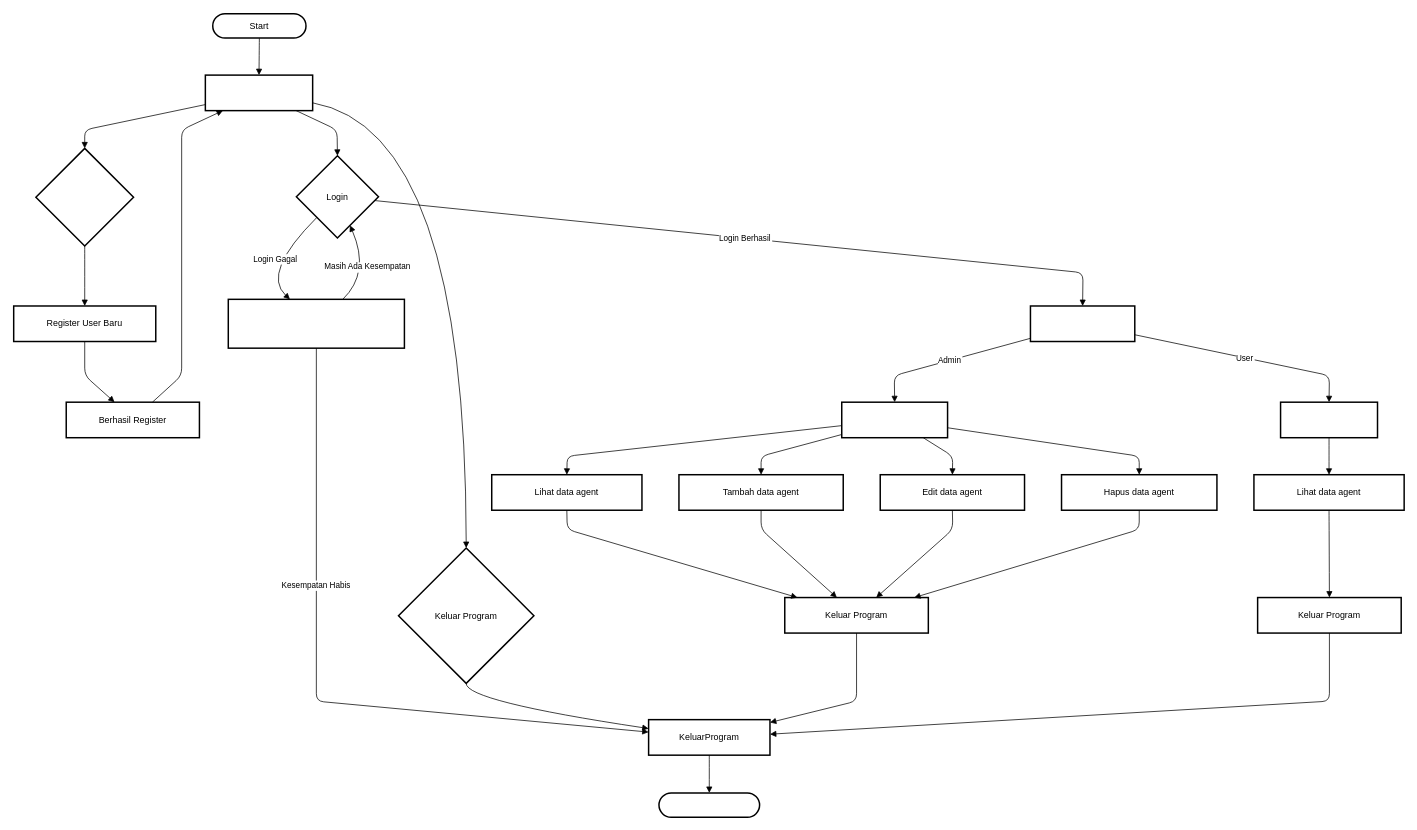
Image size: 1417x830. Some labels were removed from this diagram. Here are the shapes that lost their labels. From the top down, the centre of each, then its label:
At (258,92): "MenuUtama".
At (84,196): "Register".
At (316,323): "Username atau Password Salah!".
At (1082,323): "CheckLevel".
At (894,419): "MenuAdmin".
At (1328,419): "MenuUser".
At (709,805): "End".
